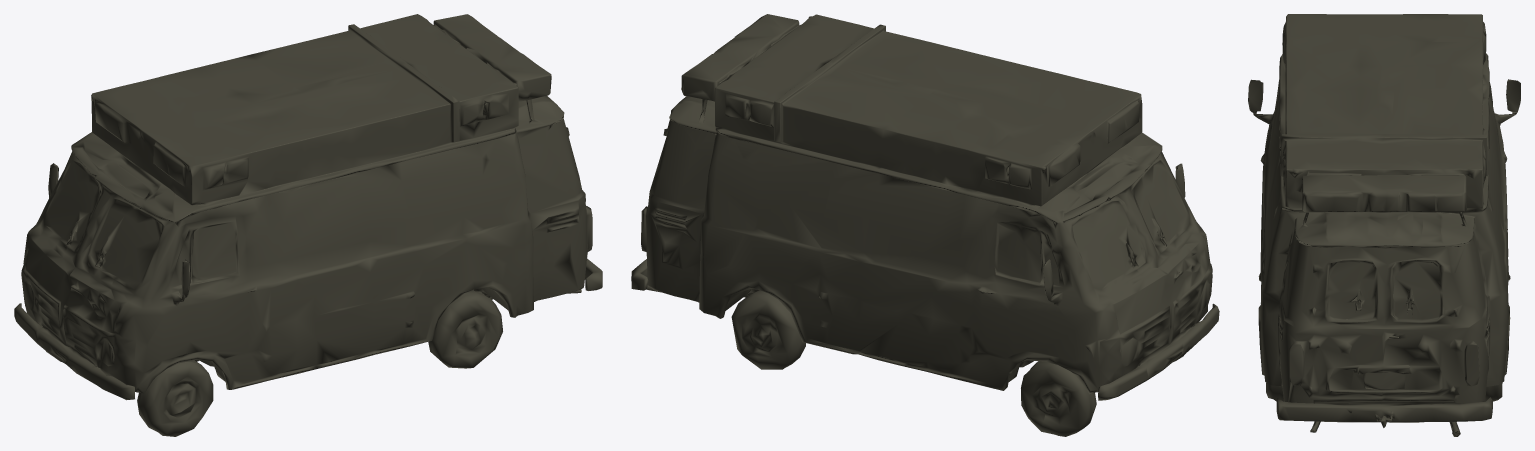
File: car_ambulance_light_q0.glb
The picture shows the model from 3 angles, left to right: view 1: azimuth 30°, elevation 25°; view 2: azimuth 150°, elevation 25°; view 3: azimuth 270°, elevation 25°; orthographic projection. The views are drawn at different scales.
Size of the model in its own units: 5.21 by 2.6 by 2.47.
Materials: 1 (1 with a texture image).
